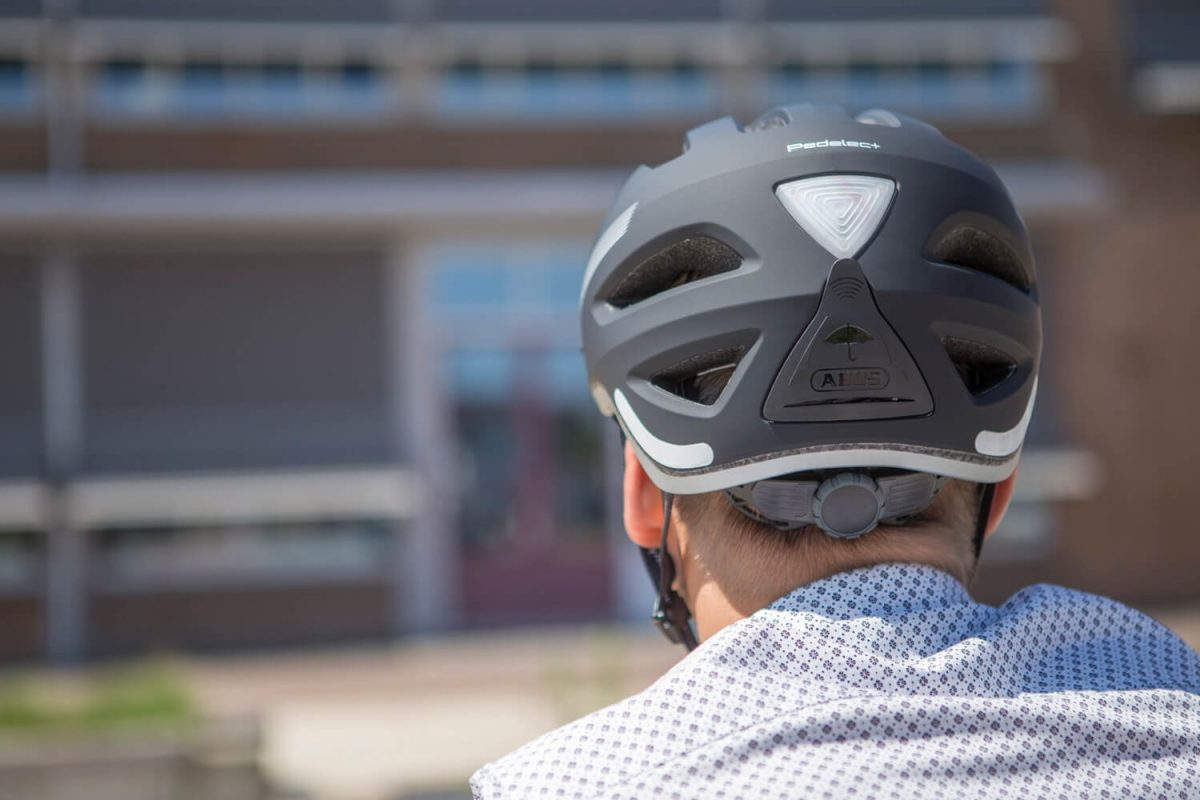helmet: (564, 98, 1049, 467)
